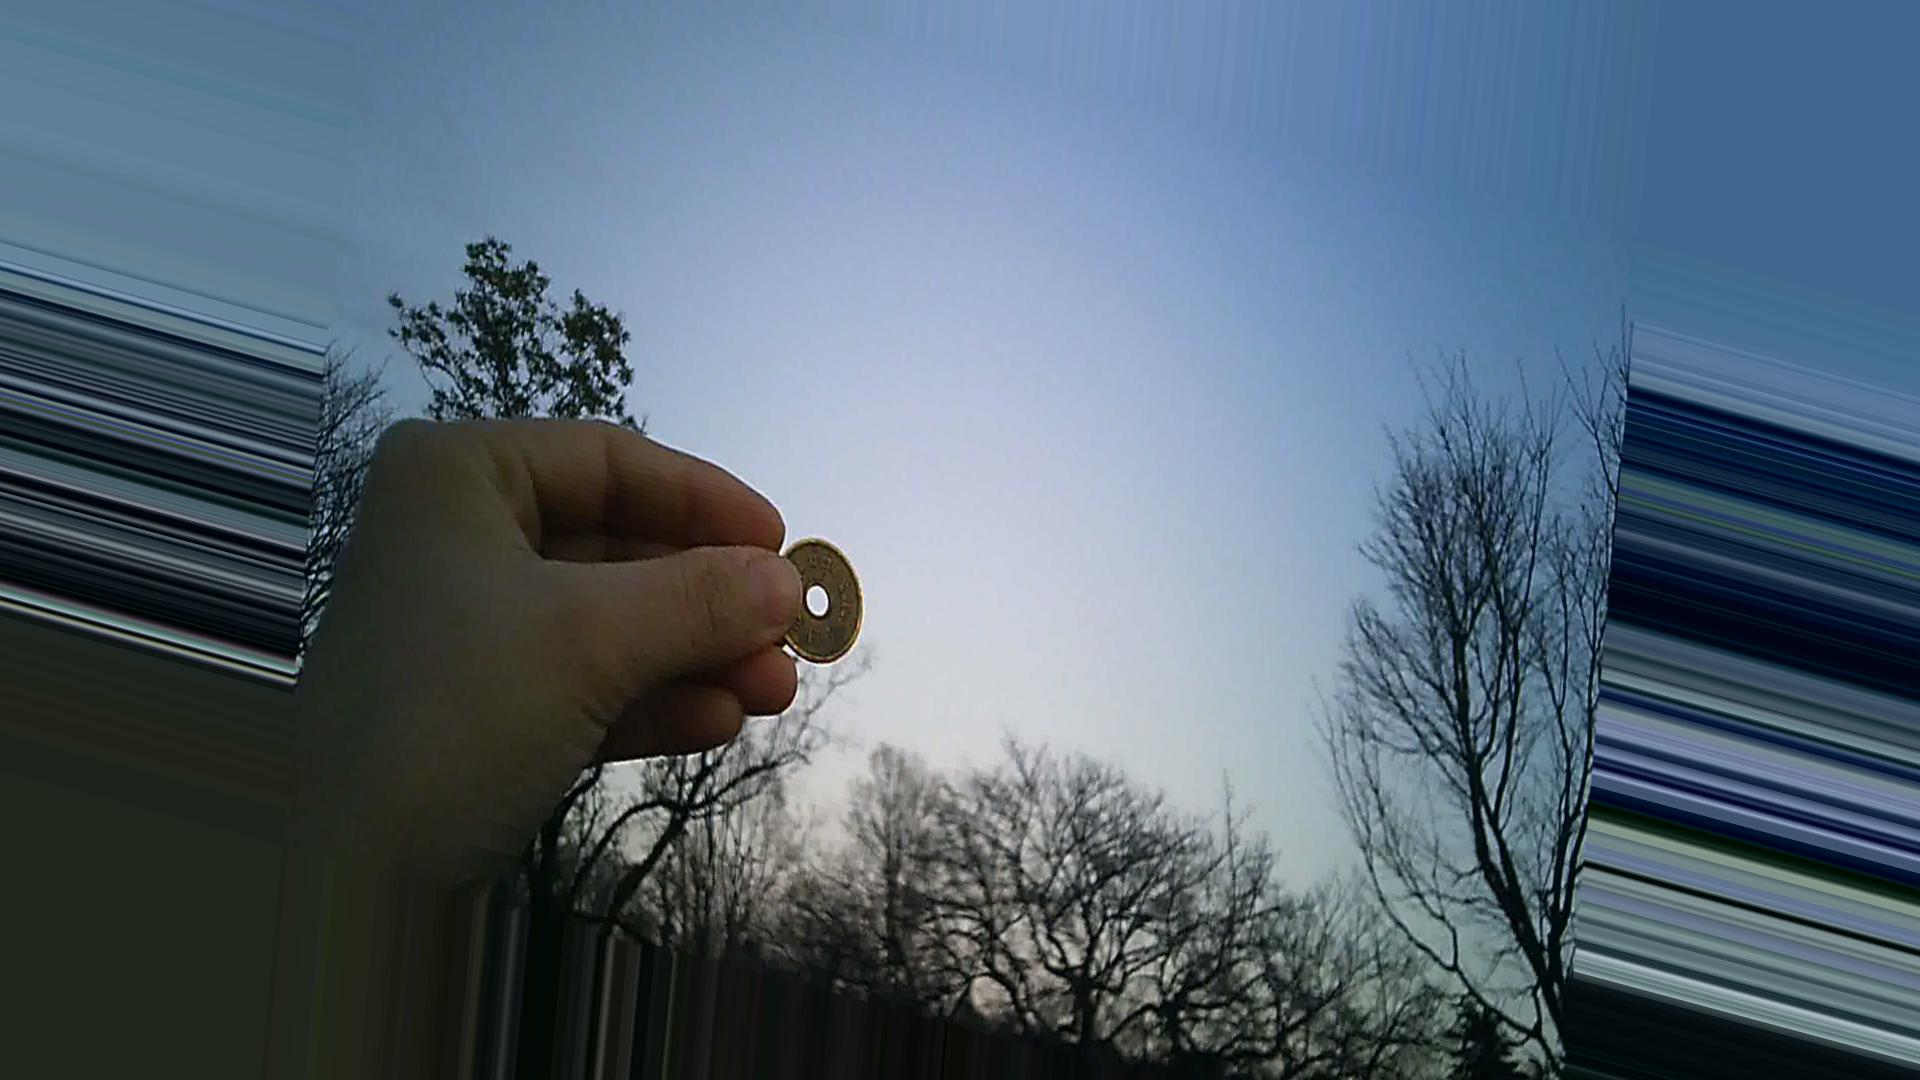5 Yen: (756, 518, 868, 686)
